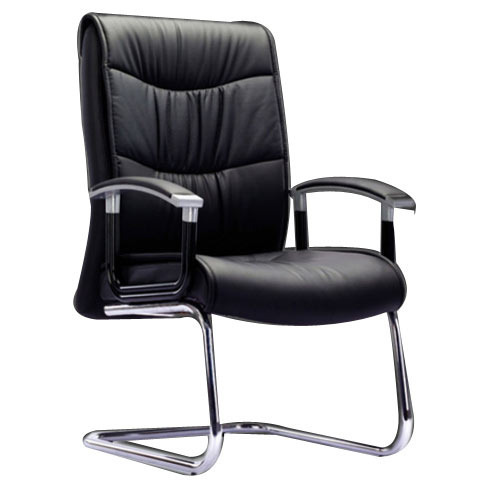chairs: (63, 9, 419, 480)
